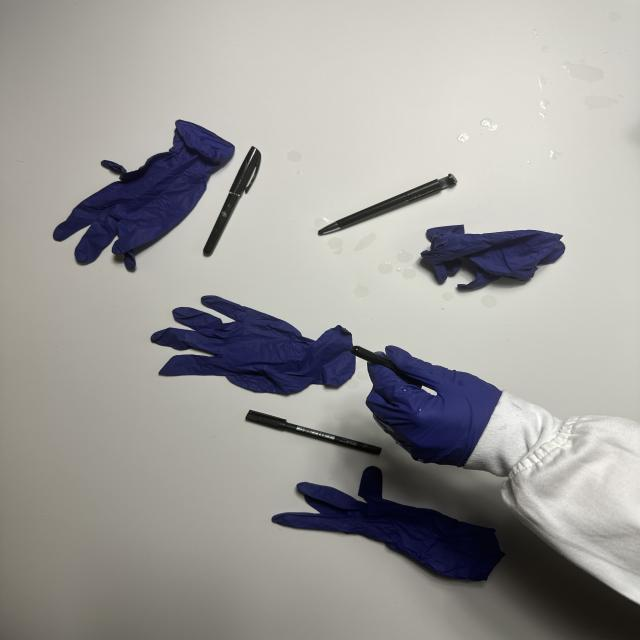gloves_contaminated: (366, 346, 502, 466)
